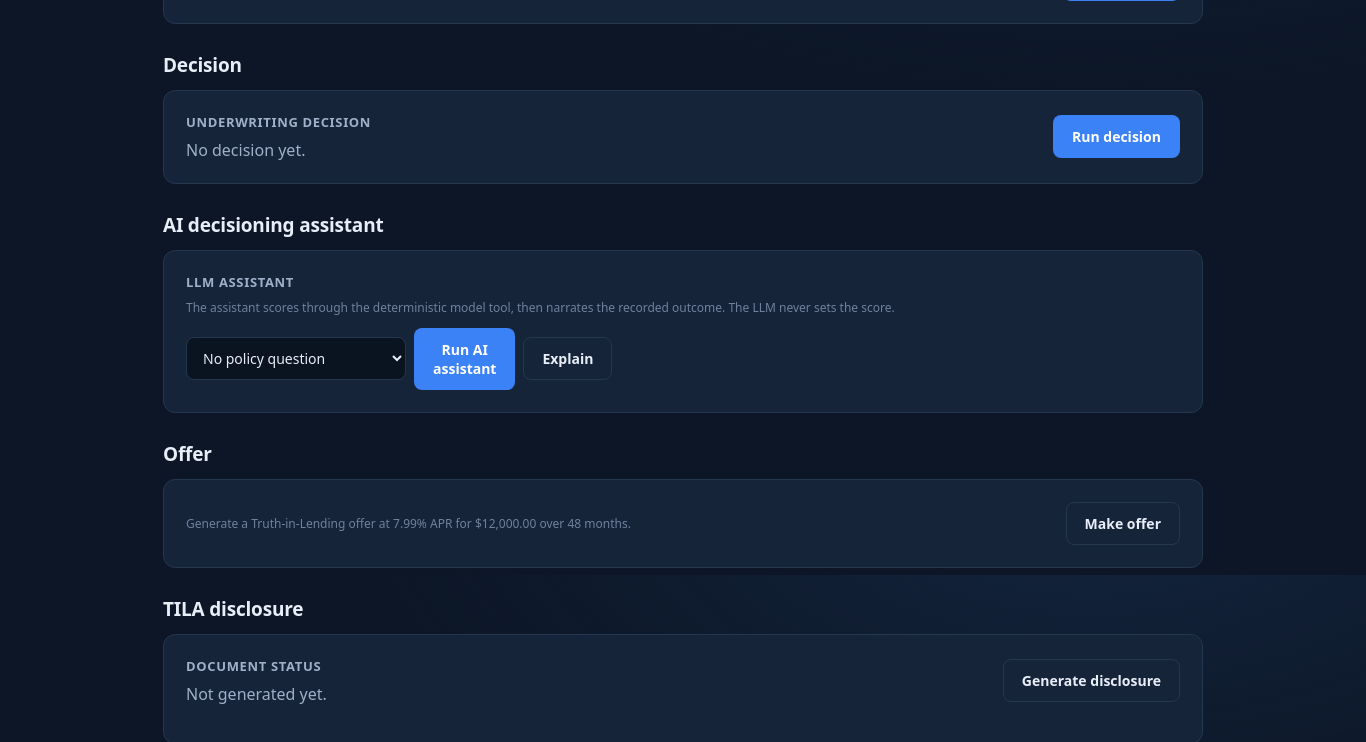
Test: underwriting detail — every principal reason reaches the officer › shows all reasons from the assistant path, not only the first
This screenshot has width=1366, height=742.
(page scrolled)
Click the button "Run AI assistant".
click(465, 358)  # box [414,328,515,390]
(page scrolled)
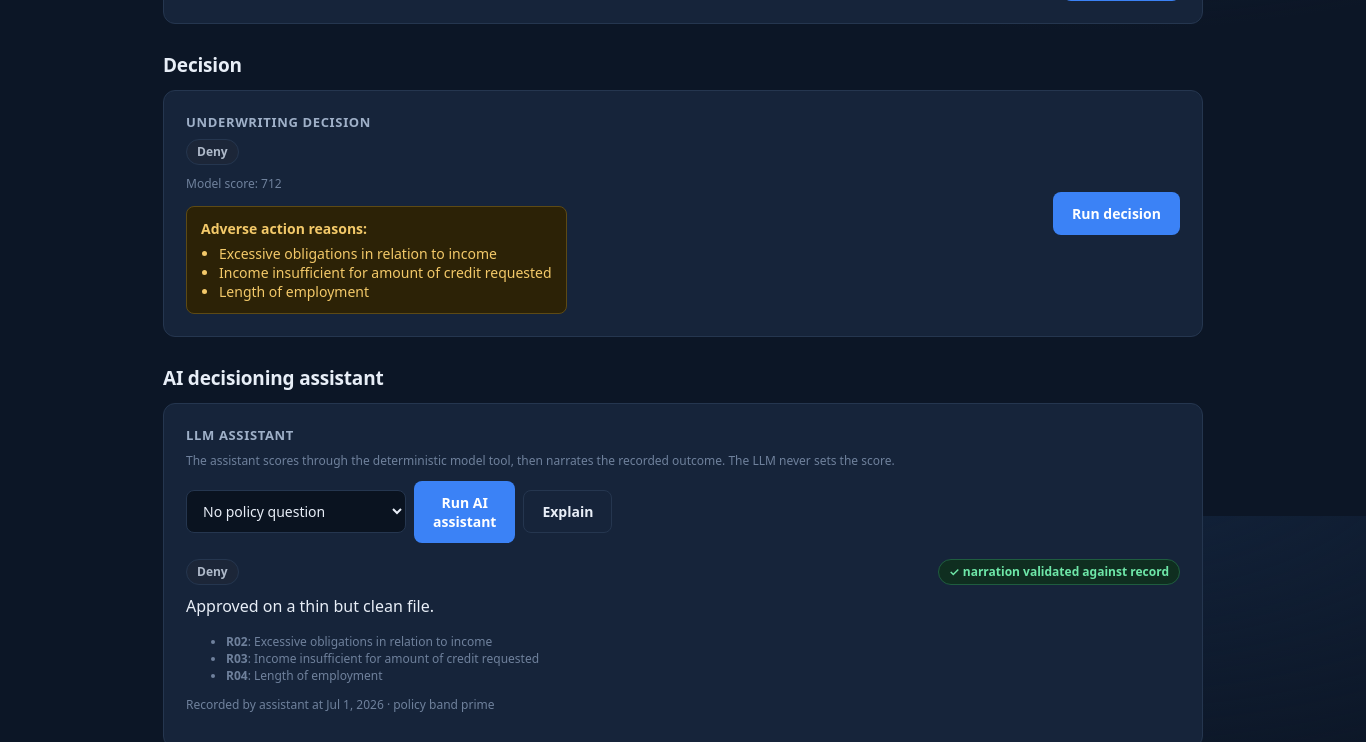
Result: the list item "Excessive obligations in relation to income" is shown at [219,244,497,262]
Result: the list item "Income insufficient for amount of credit requested" is shown at [219,262,552,282]
Result: the list item "Length of employment" is shown at [219,282,369,300]
